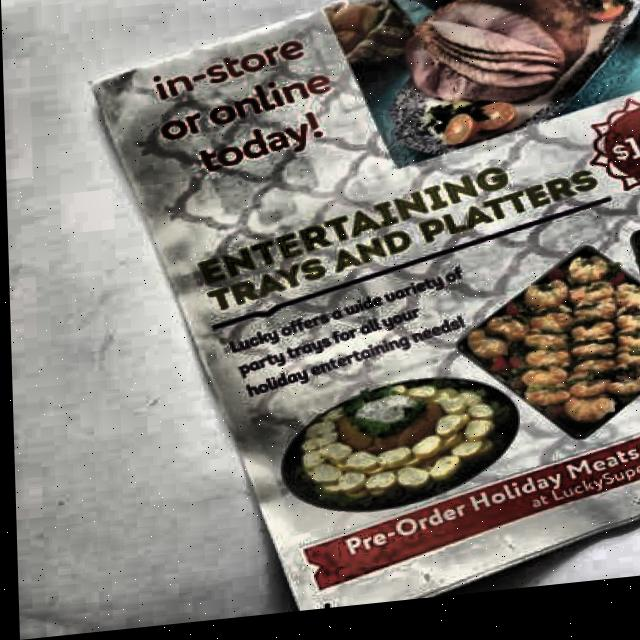paper: (88, 0, 640, 631)
